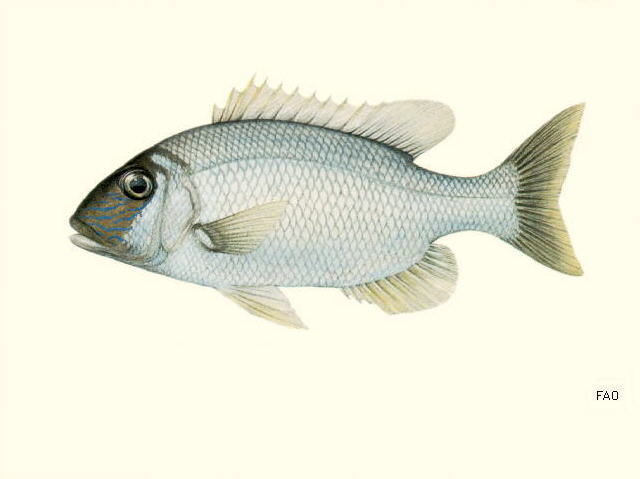fish: (68, 73, 586, 330)
